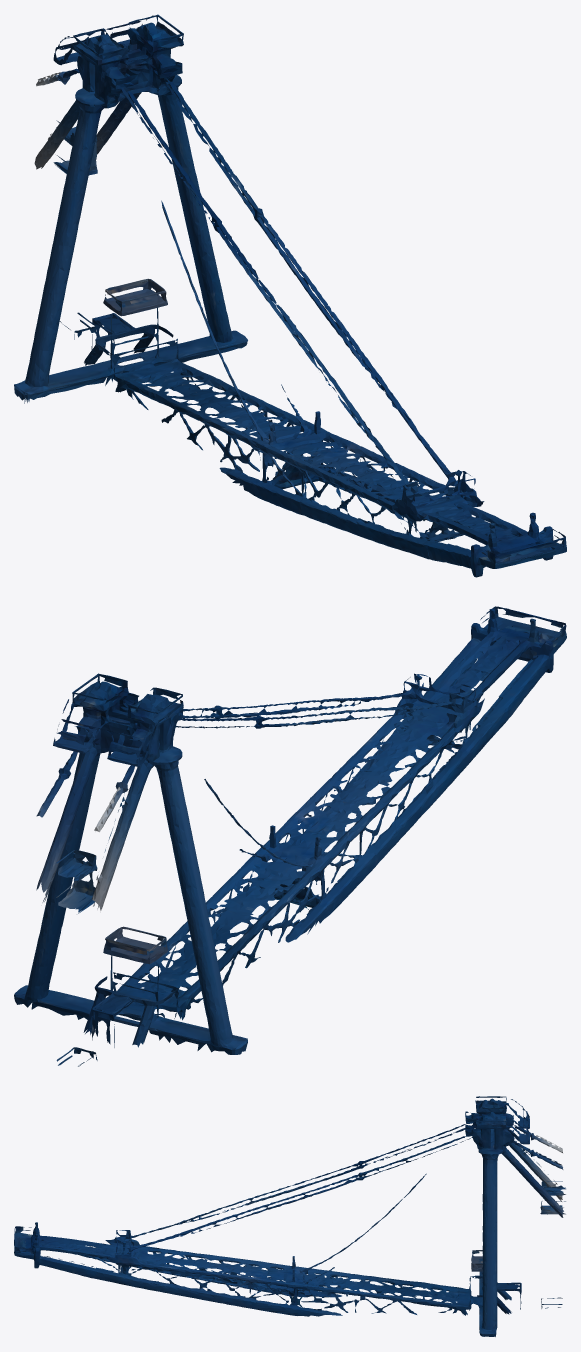
Rendered from boom.glb.
3 renders of one model, top to bottom at view 1: azimuth 30°, elevation 25°; view 2: azimuth 150°, elevation 25°; view 3: azimuth 270°, elevation 25°, orthographic. The views are drawn at different scales.
Visible parts, largest first — view 1: Node; view 2: Node; view 3: Node.
Part boxes in pixels (x1,y1,x2,y2): Node: [14, 14, 566, 577]; Node: [14, 606, 566, 1066]; Node: [14, 1096, 565, 1336].
Size of the model in its own units: 7.96 by 11.59 by 28.68.
Materials: 1 (1 with a texture image).
